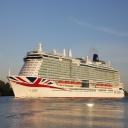cruises: (8, 42, 127, 102)
